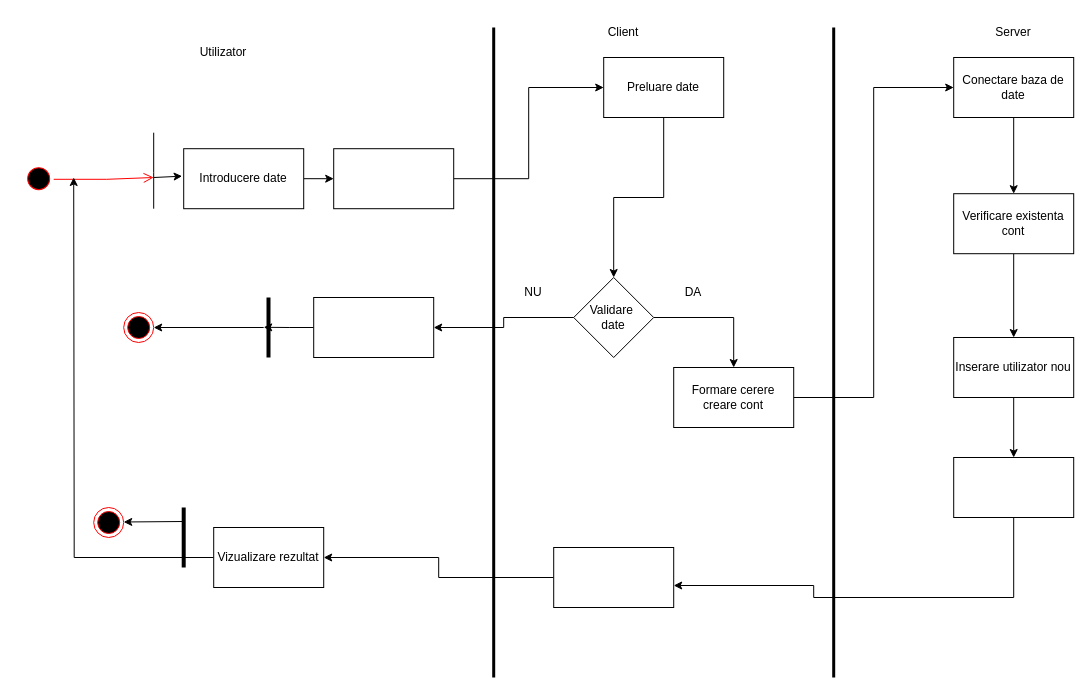
Image size: 1092x697. Some labels were removed from this diagram. Here are the shapes that lost their labels. From the top down, the centre of each, then its label:
[393,178]: Apasare buton "Creeaza cont"
[373,327]: Vizualizare mesaj eroare
[1013,487]: Deconectare baza de date
[613,577]: Preluare raspuns
